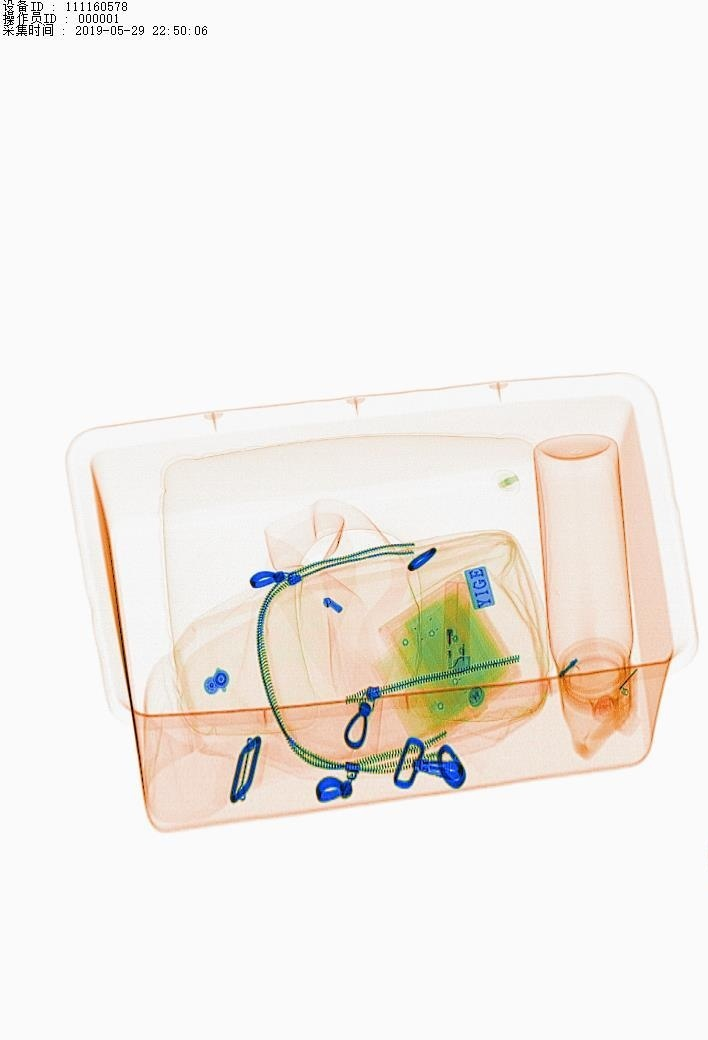NonmetallicFire: (435, 561, 485, 712)
